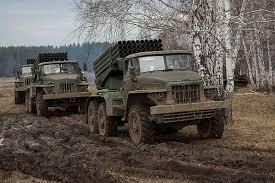MIL_SAM_TEL: (85, 38, 229, 144), (27, 51, 91, 119)
